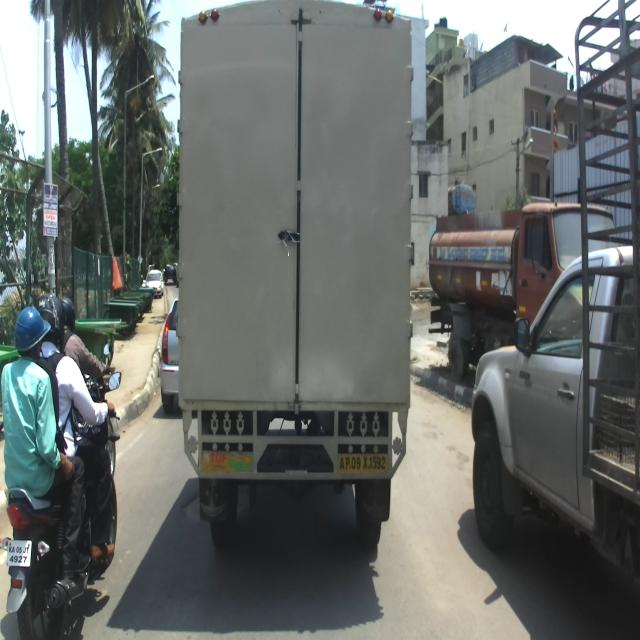electric pole ahead at: (36, 0, 65, 297)
motorcycle ahead at: (0, 478, 83, 638)
truck ahead at: (177, 0, 412, 519), (473, 249, 640, 595)
